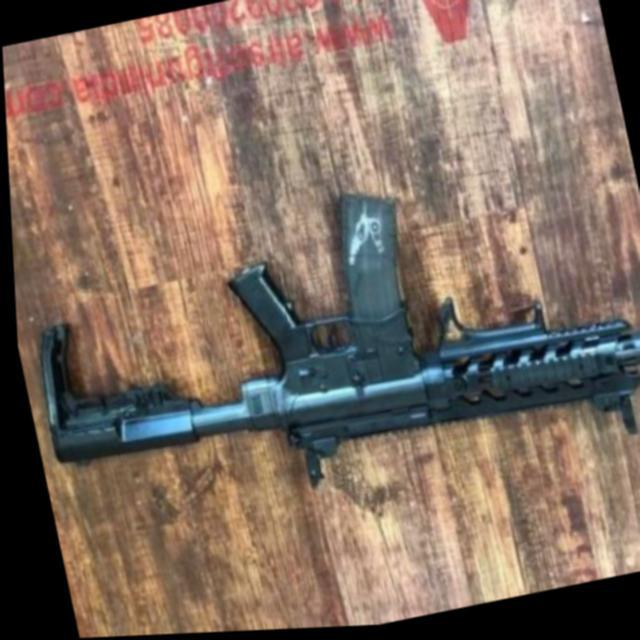weapon: (7, 138, 640, 557)
